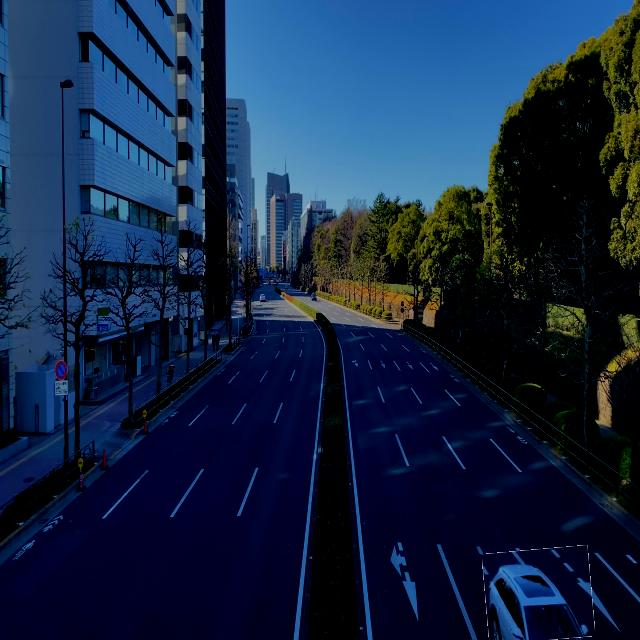Car: (484, 547, 593, 640)
